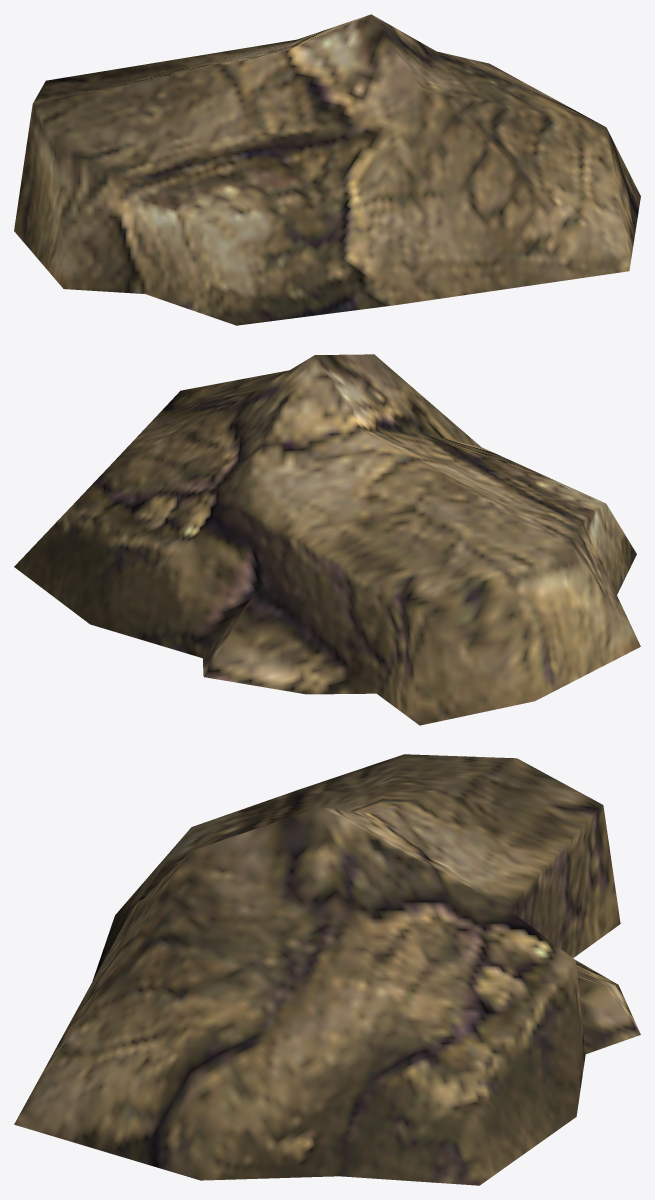
The model's file is Scene_Rock_01.FBX.
3 views of the same model, one above another, from view 1: azimuth 30°, elevation 25°; view 2: azimuth 150°, elevation 25°; view 3: azimuth 270°, elevation 25° (orthographic). The views are drawn at different scales.
Parts seen in each view (by area): view 1: Scene_Rock_01; view 2: Scene_Rock_01; view 3: Scene_Rock_01.
Boxes of the visible parts, bbox=[...] form: Scene_Rock_01: bbox=[14, 14, 640, 325]; Scene_Rock_01: bbox=[14, 354, 640, 725]; Scene_Rock_01: bbox=[14, 754, 640, 1185].
Bounding box in the file's own units: 6.53 × 2.43 × 5.53.
